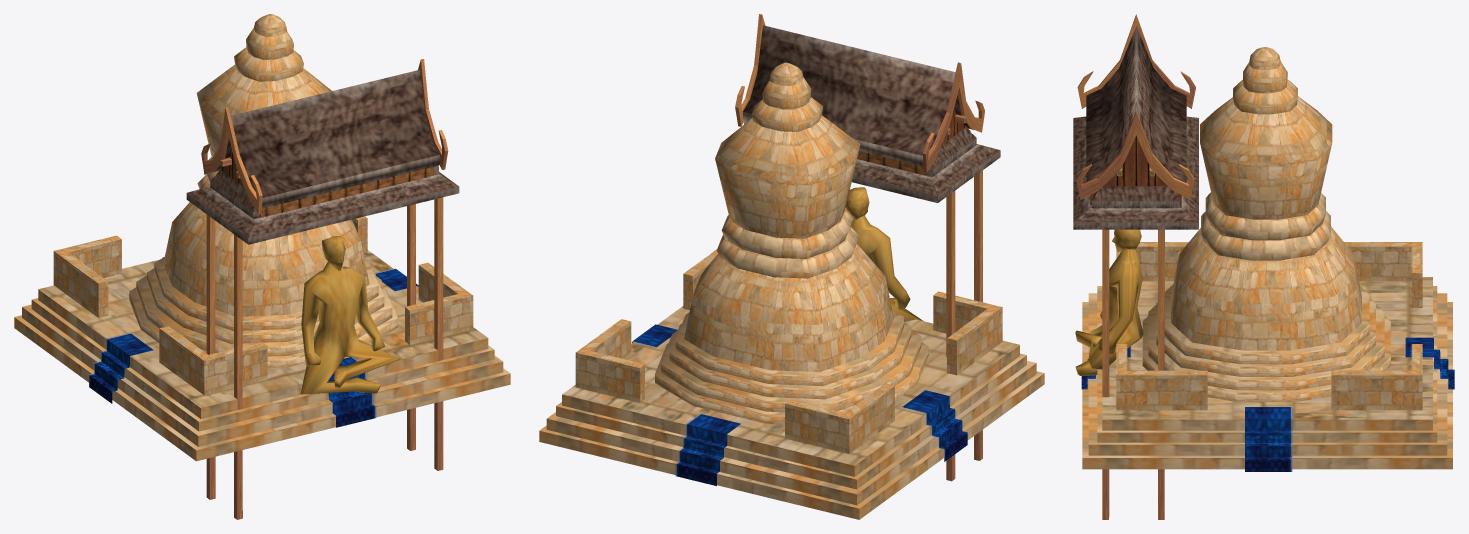
The model's file is estupa.dae.
3 renders of one model, left to right at view 1: azimuth 30°, elevation 25°; view 2: azimuth 150°, elevation 25°; view 3: azimuth 270°, elevation 25°, orthographic.
Parts seen in each view (by area): view 1: estupa; view 2: estupa; view 3: estupa.
Boxes of the visible parts, x1,y1,x2,y2 form: estupa: [14, 14, 510, 519]; estupa: [539, 14, 1044, 519]; estupa: [1073, 14, 1454, 519].
Bounding box in the file's own units: 12.7 × 12.71 × 15.64.
